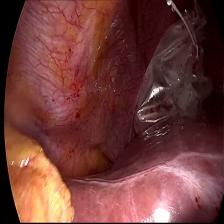Specimen Bag: (128, 0, 219, 150)
